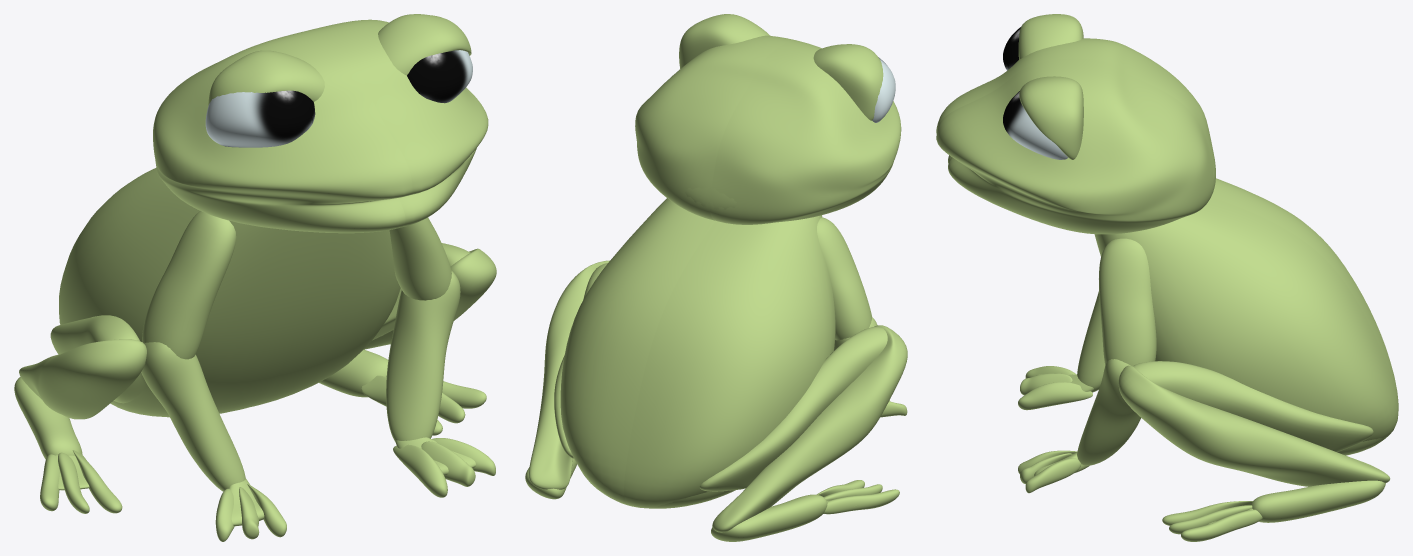
Rendered from frog.glb.
3 views of the same model, side by side, from view 1: azimuth 30°, elevation 25°; view 2: azimuth 150°, elevation 25°; view 3: azimuth 270°, elevation 25° (orthographic). The views are drawn at different scales.
Visible parts, largest first — view 1: Cube, Cube.003; view 2: Cube, Cube.003; view 3: Cube, Cube.003.
Part boxes in pixels (x1,y1,x2,y2): Cube: [14, 14, 496, 541]; Cube.003: [205, 50, 472, 147]; Cube: [525, 14, 907, 541]; Cube.003: [872, 57, 895, 122]; Cube: [936, 14, 1398, 541]; Cube.003: [1003, 27, 1068, 159].
Bounding box in the file's own units: 1.73 × 1.82 × 1.86.
2 materials, 2 textured.
